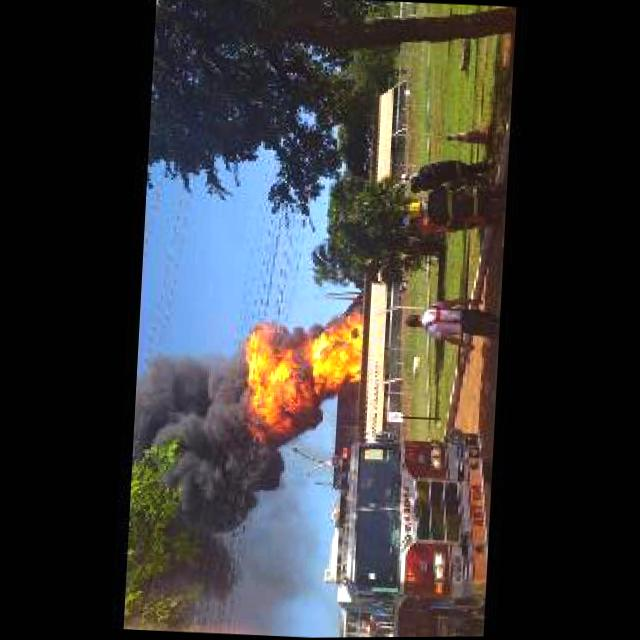Fire: (228, 301, 362, 445)
Smoke: (130, 355, 282, 586)
